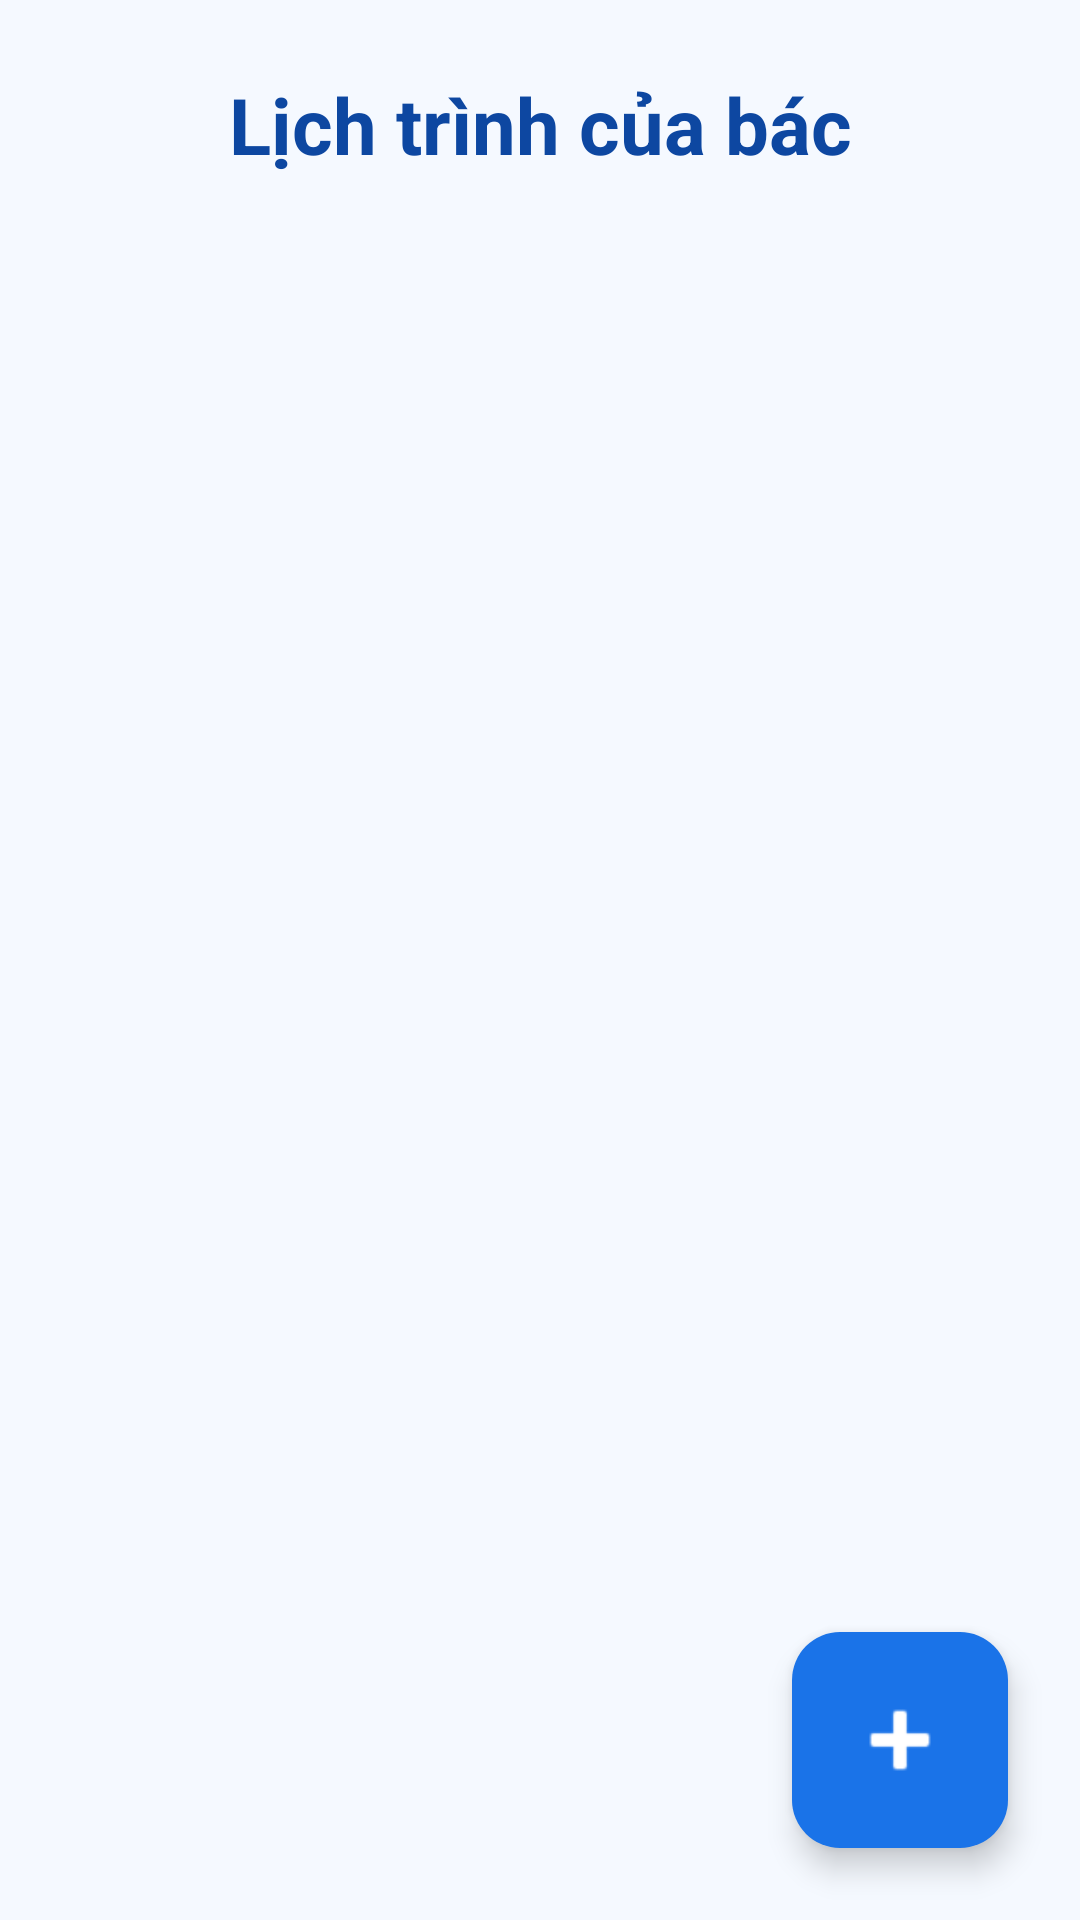

Icons on this 1080 × 1920 Android screen, each with the point to tap as (x=x, y=y):
Thêm lịch mới: (x=900, y=1740)
